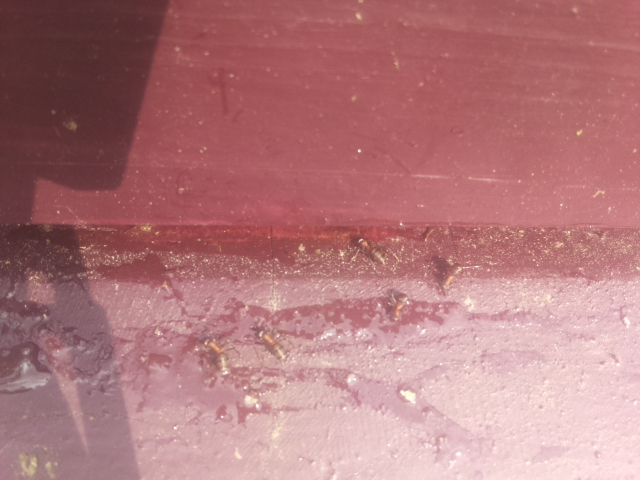ant: (345, 227, 389, 271), (251, 326, 292, 364), (205, 331, 233, 381), (385, 292, 409, 323)
